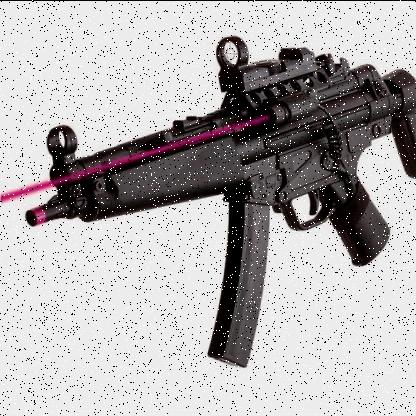rifle: (18, 14, 410, 364)
